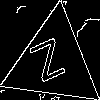Z: (28, 37, 71, 92)
